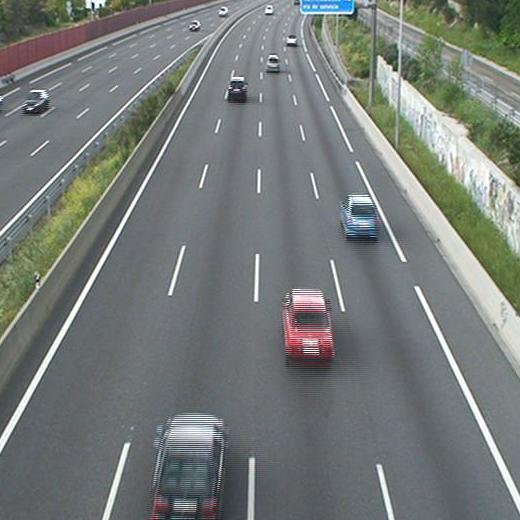car: (152, 413, 230, 519), (280, 289, 335, 364), (339, 193, 379, 239), (225, 77, 248, 103), (266, 53, 280, 73), (286, 34, 297, 45)
